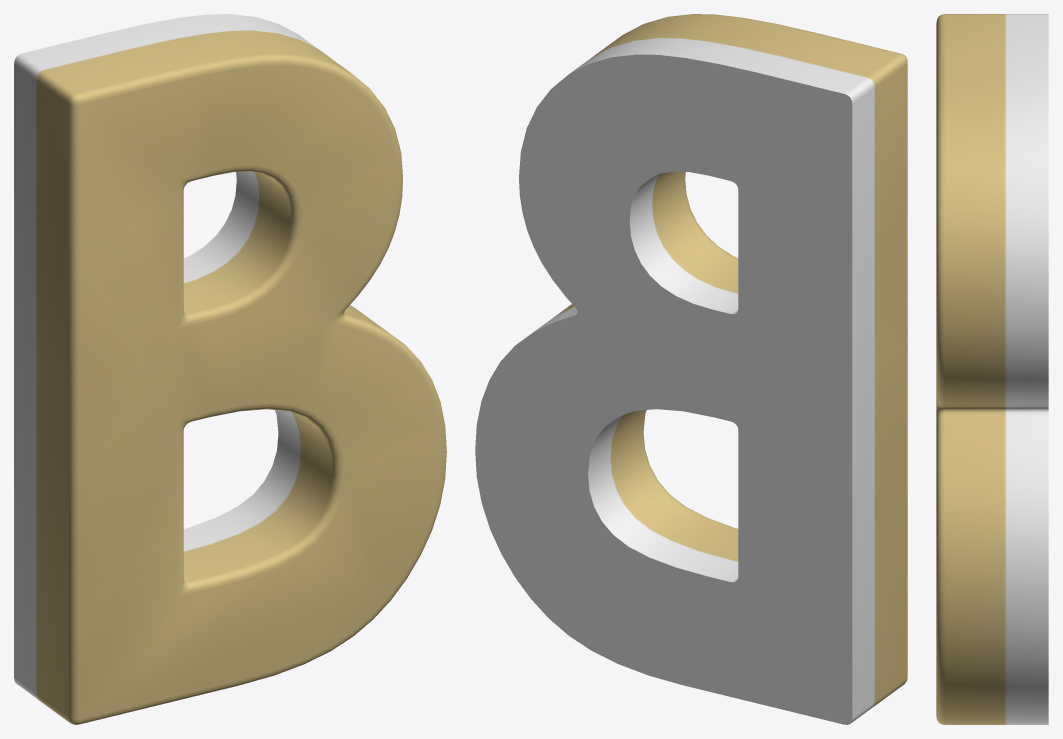
The model's file is LettersLightUp01_B.FBX.
3 renders of one model, left to right at view 1: azimuth 30°, elevation 25°; view 2: azimuth 150°, elevation 25°; view 3: azimuth 270°, elevation 25°, orthographic. The views are drawn at different scales.
Parts seen in each view (by area): view 1: LettersLightUp01_B; view 2: LettersLightUp01_B; view 3: LettersLightUp01_B.
Part boxes in pixels (box(x1,y1,x2,y2)): LettersLightUp01_B: box(14, 14, 446, 724); LettersLightUp01_B: box(475, 14, 907, 724); LettersLightUp01_B: box(936, 14, 1048, 724).
Size of what is drawn, in the model's own units: 0.3755 by 0.6001 by 0.1012.
